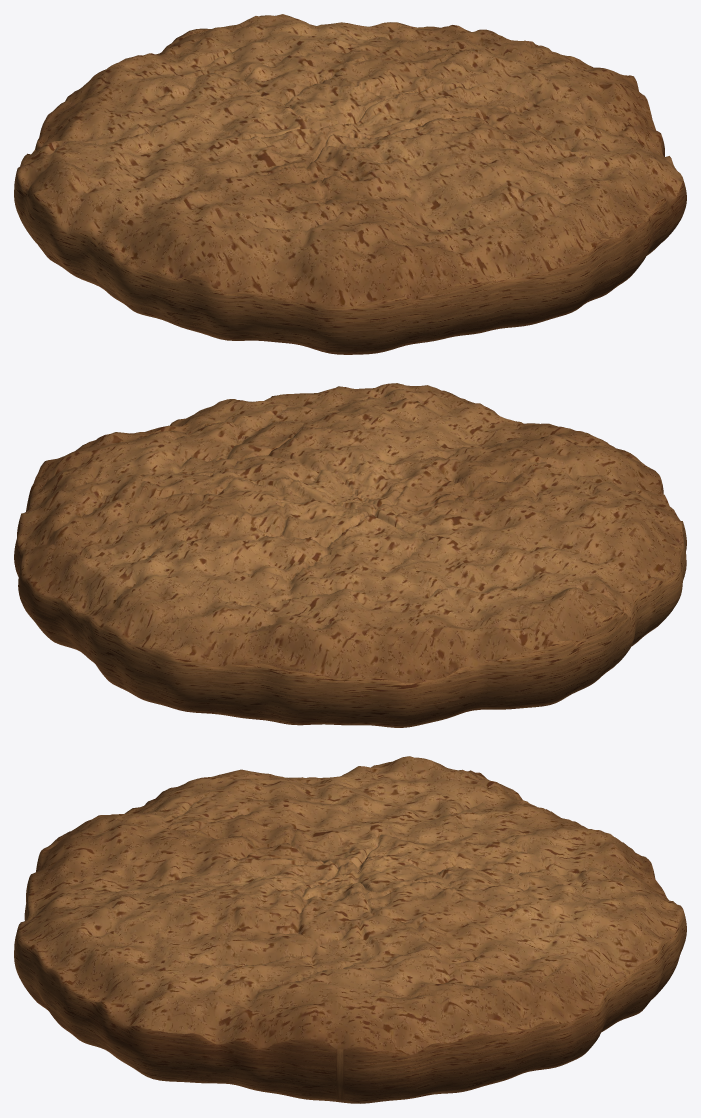
Rendered from whole-wheat.glb.
3 renders of one model, top to bottom at view 1: azimuth 30°, elevation 25°; view 2: azimuth 150°, elevation 25°; view 3: azimuth 270°, elevation 25°, orthographic. The views are drawn at different scales.
Visible parts, largest first — view 1: Builder dough | whole-wheat; view 2: Builder dough | whole-wheat; view 3: Builder dough | whole-wheat.
Part boxes in pixels (x1,y1,x2,y2): Builder dough | whole-wheat: [14, 14, 686, 354]; Builder dough | whole-wheat: [14, 383, 686, 727]; Builder dough | whole-wheat: [14, 756, 686, 1103].
Bounding box in the file's own units: 4.99 × 0.8773 × 4.98.
2 materials, 2 textured.
